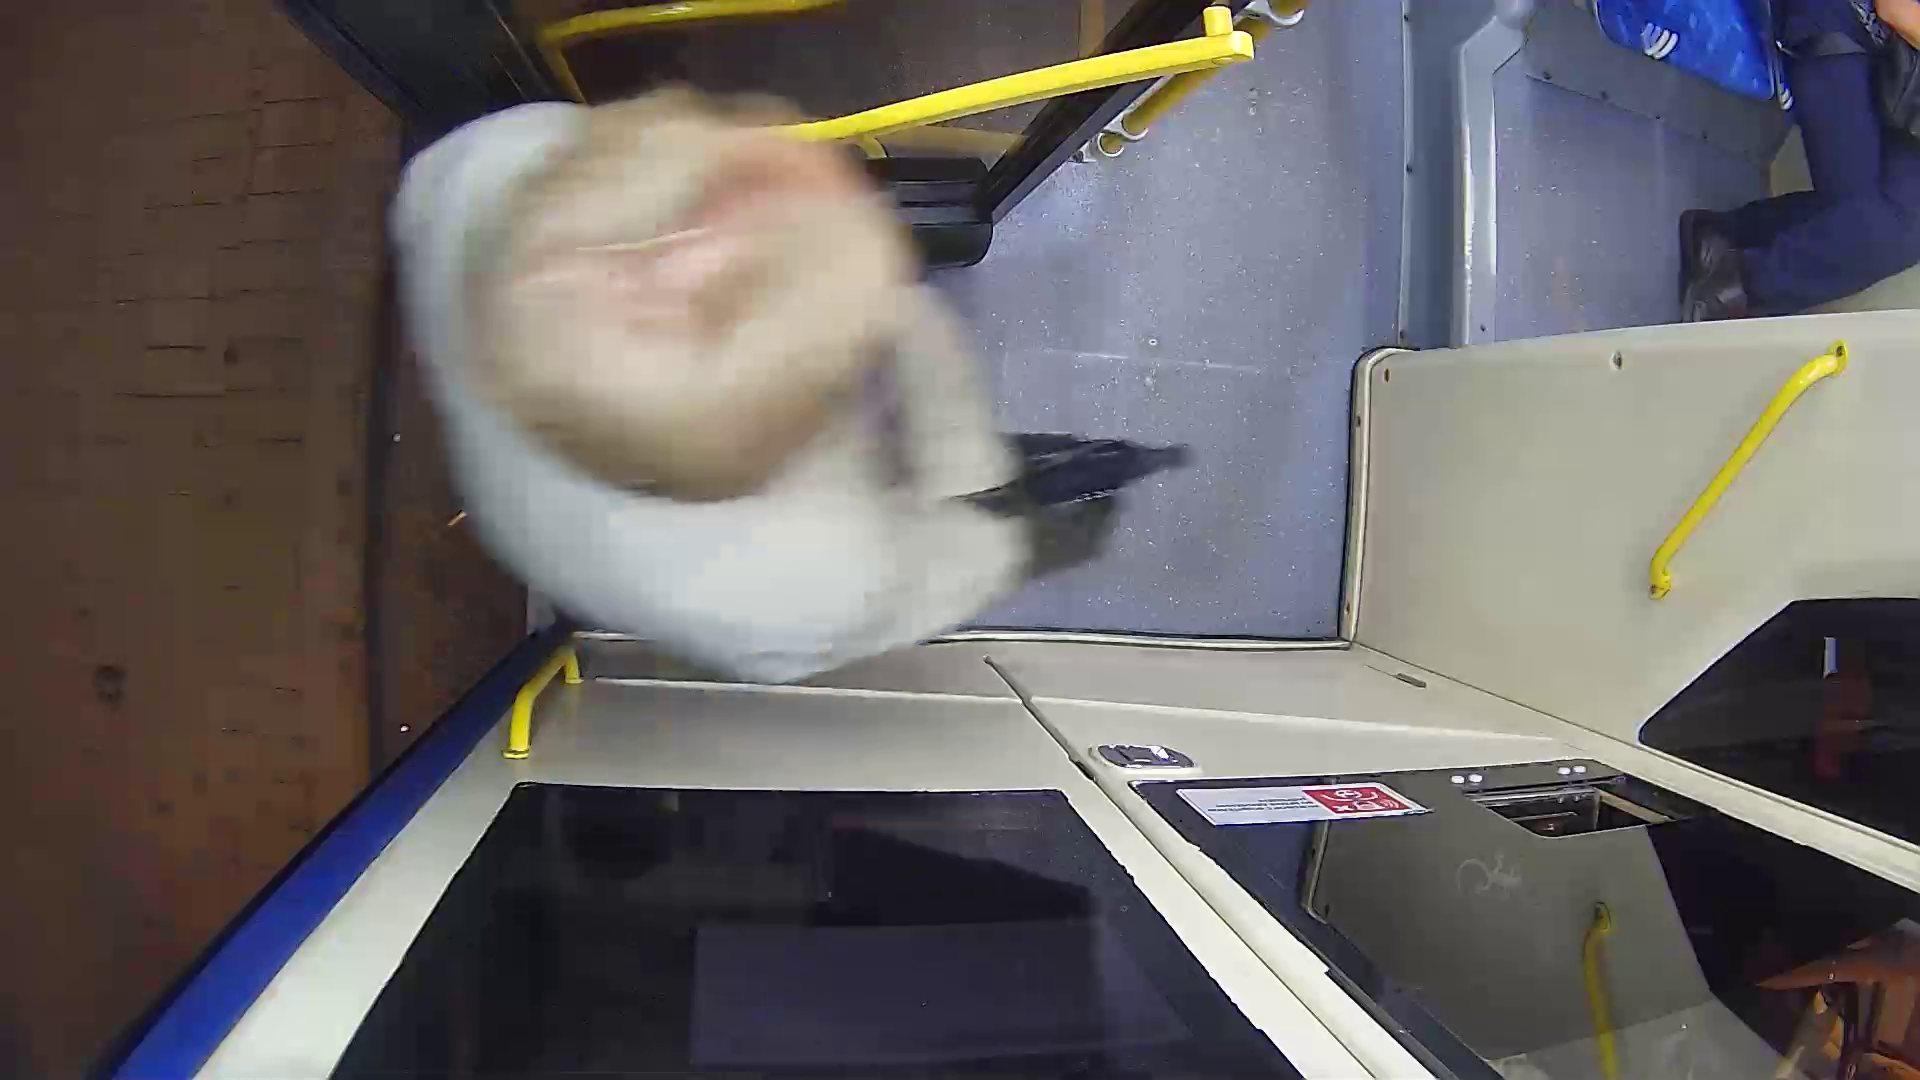person: (371, 59, 1150, 699)
